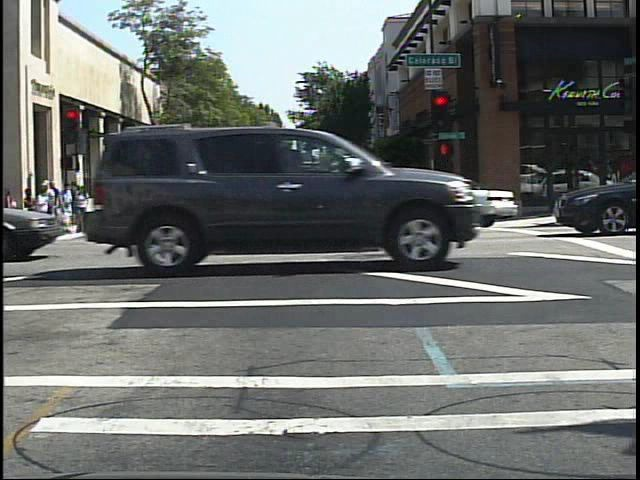person: (106, 180, 127, 226)
